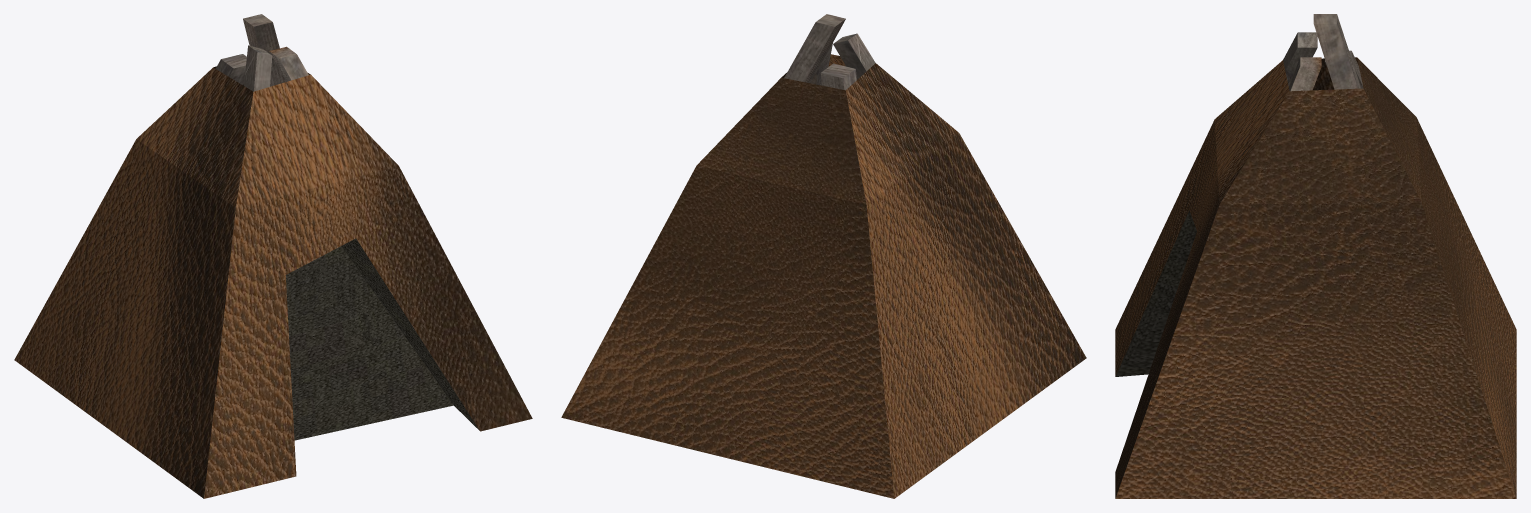
File: tent.glb
The picture shows the model from 3 angles, left to right: view 1: azimuth 30°, elevation 25°; view 2: azimuth 150°, elevation 25°; view 3: azimuth 270°, elevation 25°; orthographic projection. The views are drawn at different scales.
Visible parts, largest first — view 1: Cube; view 2: Cube; view 3: Cube.
Part boxes in pixels (x1,y1,x2,y2): Cube: [14, 14, 532, 498]; Cube: [561, 14, 1086, 498]; Cube: [1115, 14, 1516, 498].
Bounding box in the file's own units: 2.69 × 2.89 × 2.69.
Materials: 1 (1 with a texture image).
